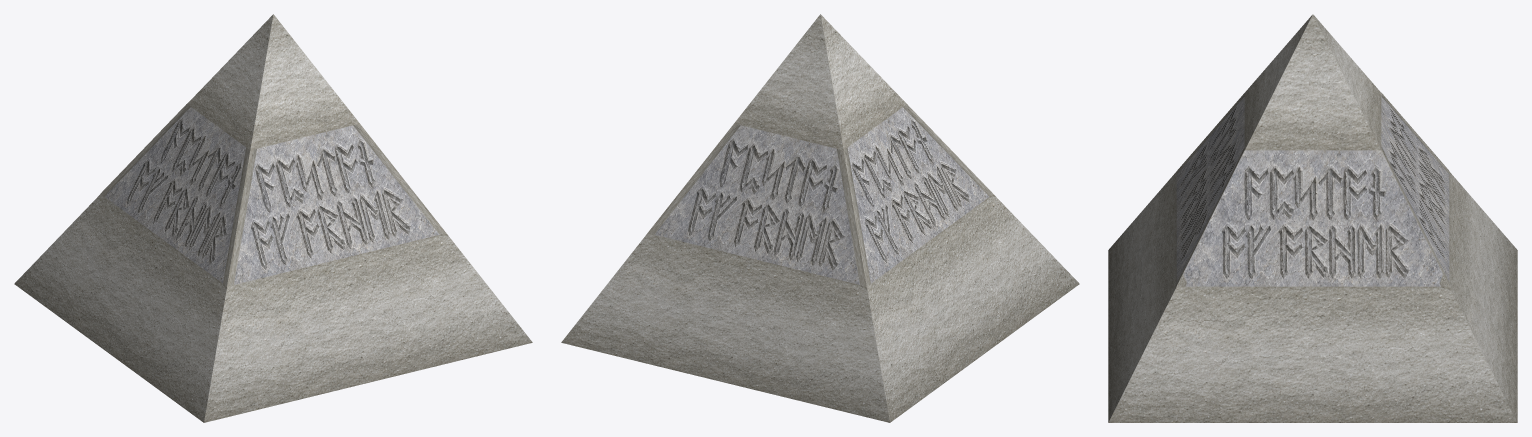
Rendered from mm9_deco_capstone.glb.
The picture shows the model from 3 angles, left to right: view 1: azimuth 30°, elevation 25°; view 2: azimuth 150°, elevation 25°; view 3: azimuth 270°, elevation 25°; orthographic projection. The views are drawn at different scales.
Parts seen in each view (by area): view 1: Capstone; view 2: Capstone; view 3: Capstone.
Boxes of the visible parts, x1,y1,x2,y2 form: Capstone: [14, 14, 532, 422]; Capstone: [561, 14, 1079, 422]; Capstone: [1108, 14, 1517, 422].
Size of the model in its own units: 0.393 by 0.3417 by 0.393.
Materials: 1 (1 with a texture image).
